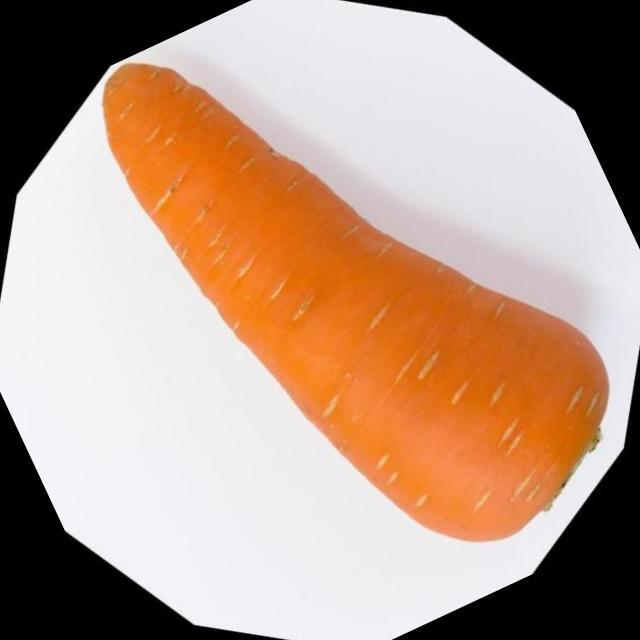carrot: (104, 64, 609, 539)
